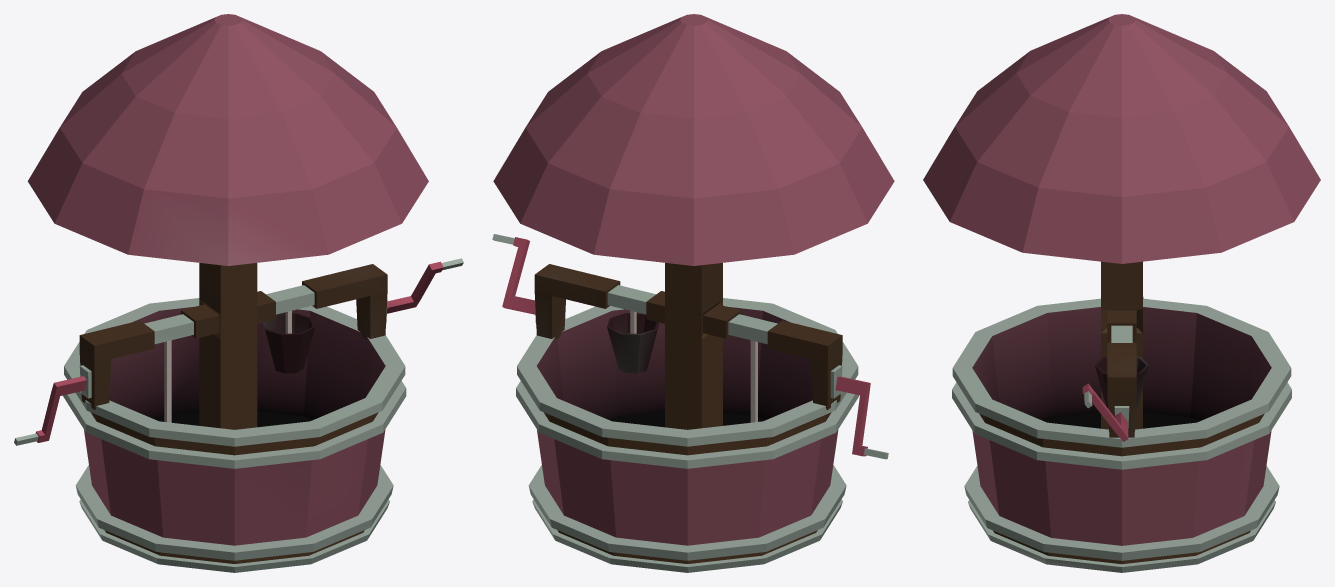
The model's file is PoçoLOD.fbx.
3 renders of one model, left to right at view 1: azimuth 30°, elevation 25°; view 2: azimuth 150°, elevation 25°; view 3: azimuth 270°, elevation 25°, orthographic.
Parts seen in each view (by area): view 1: Poço_LOD0; view 2: Poço_LOD0; view 3: Poço_LOD0.
Part boxes in pixels (x1,y1,x2,y2): Poço_LOD0: (14, 14, 463, 572); Poço_LOD0: (492, 14, 894, 572); Poço_LOD0: (923, 14, 1320, 572).
Size of what is drawn, in the model's own units: 312 by 348 by 258.
